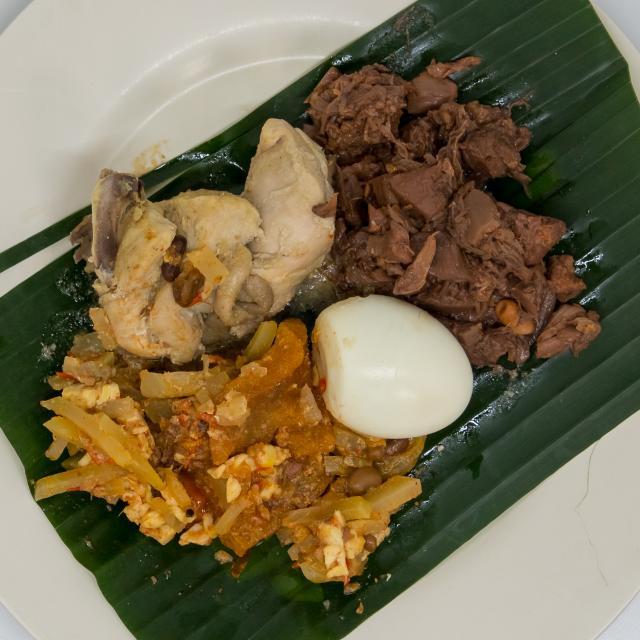Gudeg-Jogja: (17, 29, 606, 604)
